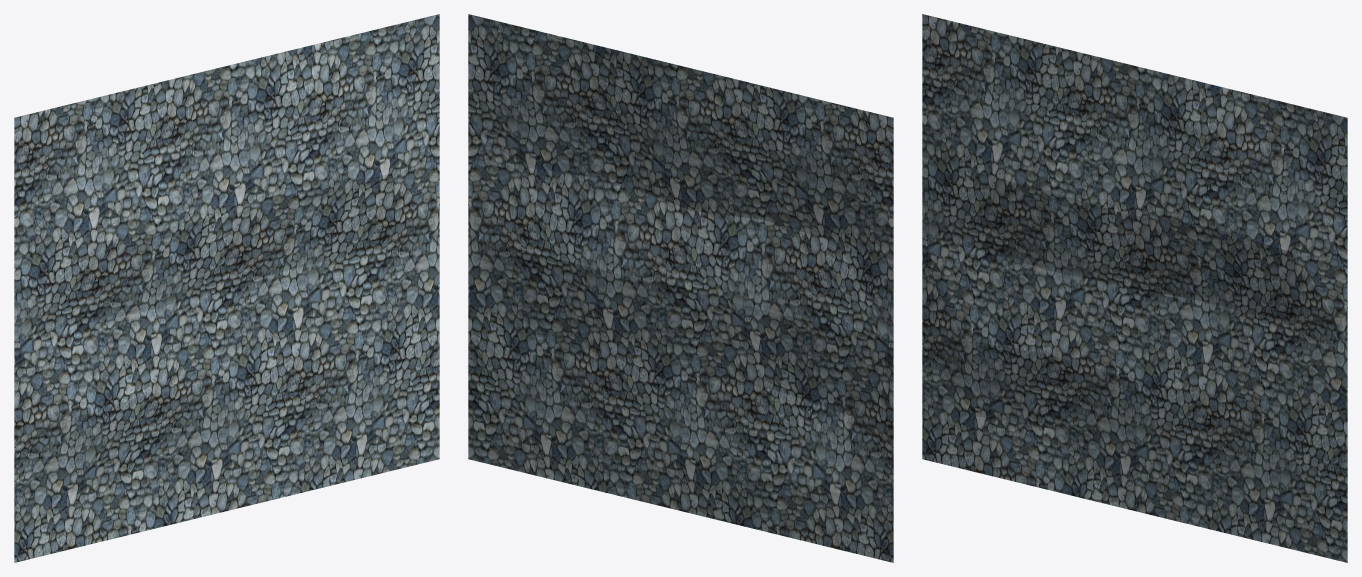
Rendered from ground_cave.obj.
3 renders of one model, left to right at view 1: azimuth 30°, elevation 25°; view 2: azimuth 150°, elevation 25°; view 3: azimuth 330°, elevation 25°, orthographic.
Visible parts, largest first — view 1: Cube; view 2: Cube; view 3: Cube.
Boxes of the visible parts, x1,y1,x2,y2 form: Cube: [14, 14, 439, 562]; Cube: [468, 14, 893, 562]; Cube: [922, 14, 1347, 562].
Size of the model in its own units: 2 by 2 by 0.0742.
